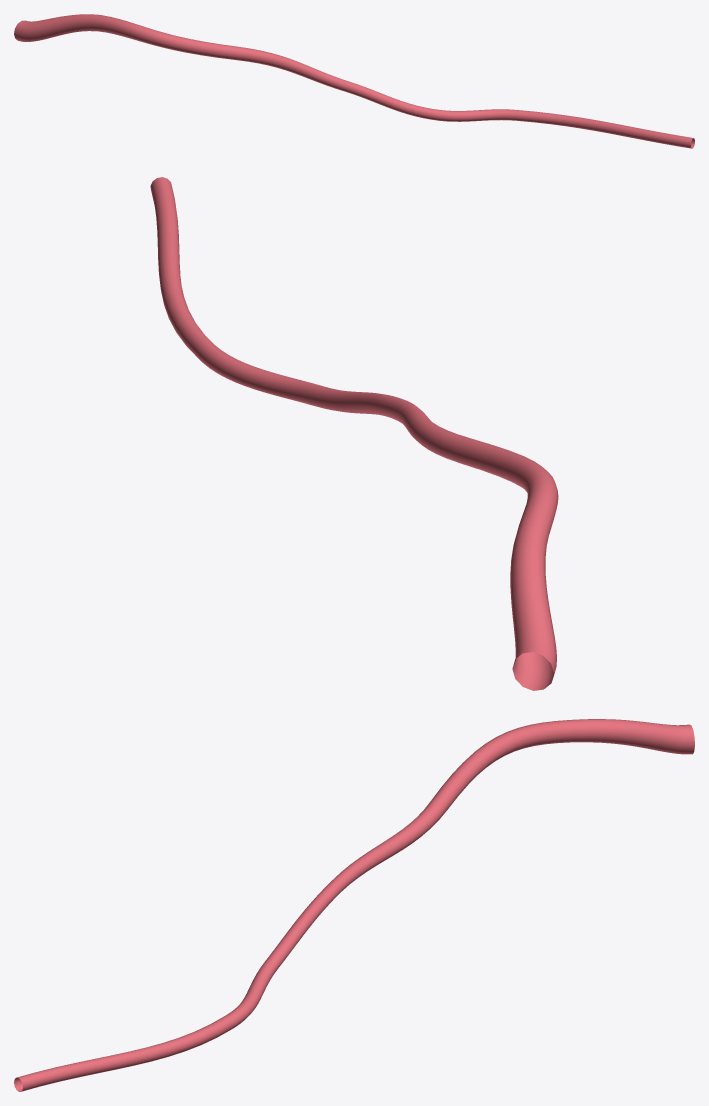
3 views of the same model, one above another, from view 1: azimuth 30°, elevation 25°; view 2: azimuth 150°, elevation 25°; view 3: azimuth 270°, elevation 25° (orthographic). The views are drawn at different scales.
Parts seen in each view (by area): view 1: ZA_82afeb19efc65004; view 2: ZA_82afeb19efc65004; view 3: ZA_82afeb19efc65004.
Boxes of the visible parts, bbox=[...] form: ZA_82afeb19efc65004: bbox=[14, 14, 694, 148]; ZA_82afeb19efc65004: bbox=[150, 177, 558, 690]; ZA_82afeb19efc65004: bbox=[14, 719, 694, 1091].
Bounding box in the file's own units: 0.0469 × 0.00859 × 0.0452.
